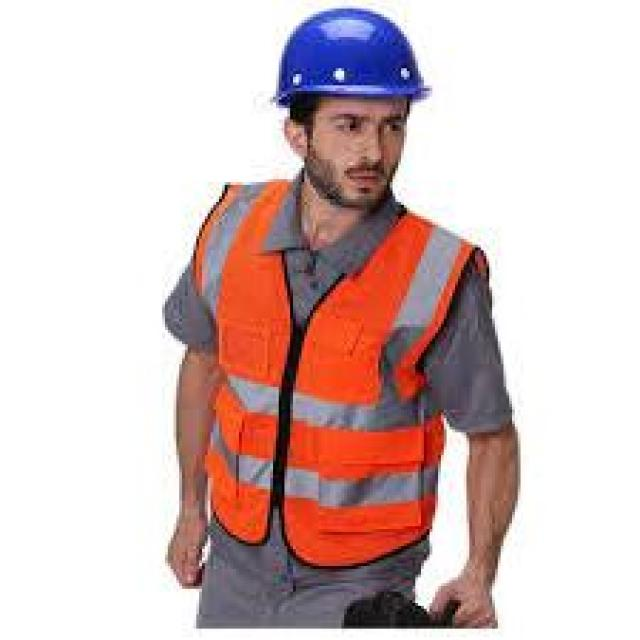Reflective-Jacket: (190, 176, 480, 566)
Safety-Helmet: (262, 2, 435, 116)
